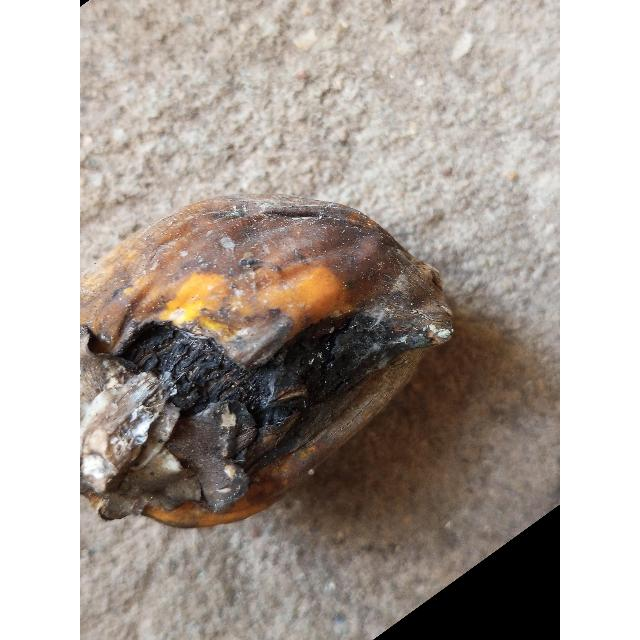damaged: (80, 195, 455, 532)
